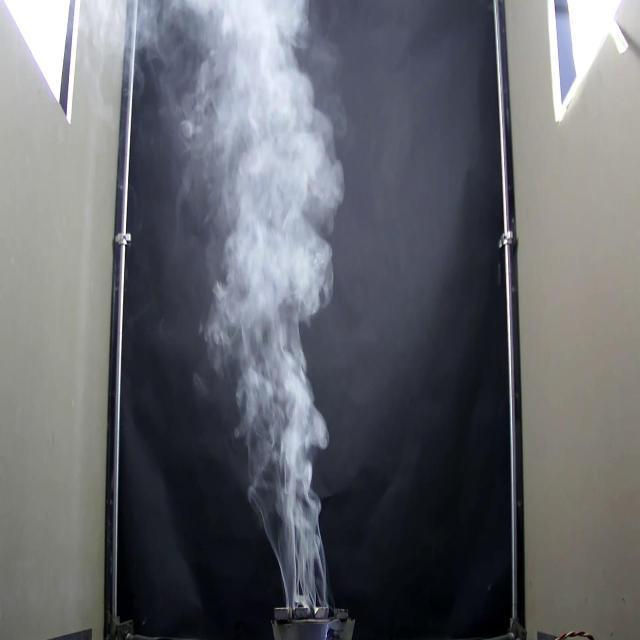fire: (137, 0, 344, 610)
